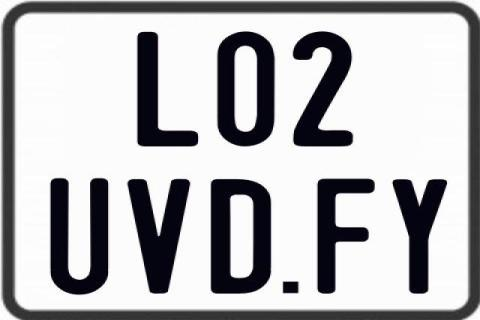0: (218, 31, 278, 147), (290, 31, 350, 147)
D: (208, 177, 272, 295)
F: (317, 177, 376, 297)
L: (134, 30, 198, 146)
U: (48, 176, 112, 297)
V: (125, 180, 190, 296)
Y: (392, 179, 450, 299)
